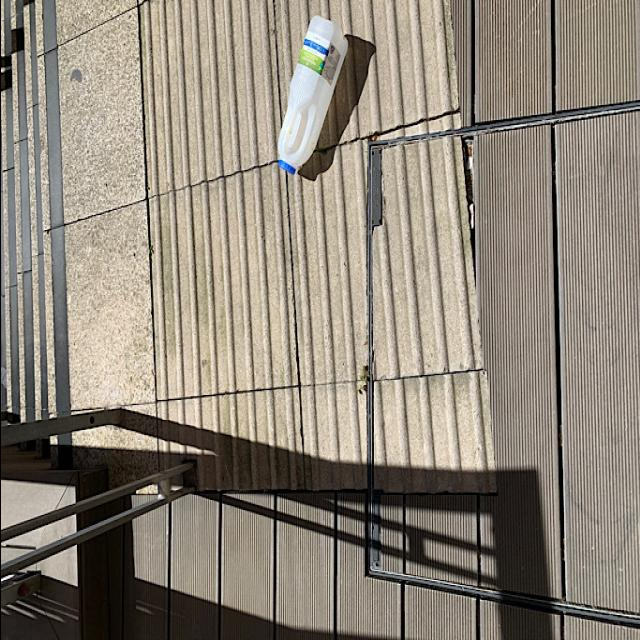HDPEM: (273, 0, 345, 178)
